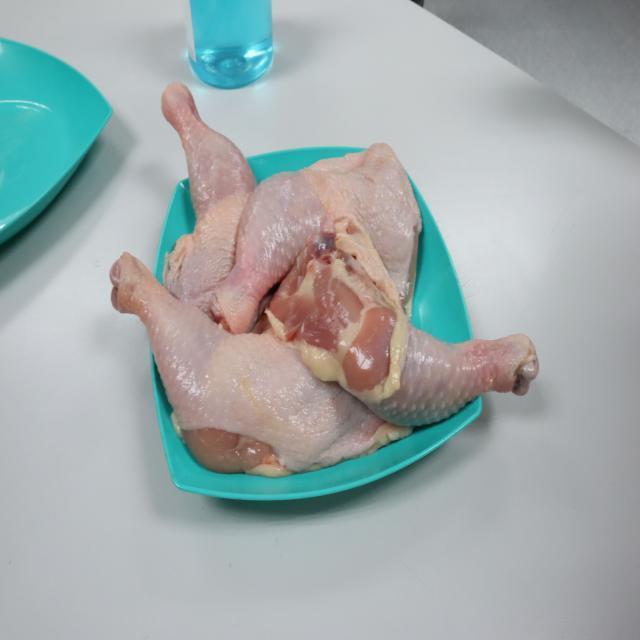quater: (96, 254, 347, 471), (284, 240, 546, 433), (210, 163, 426, 330), (140, 76, 256, 276)
